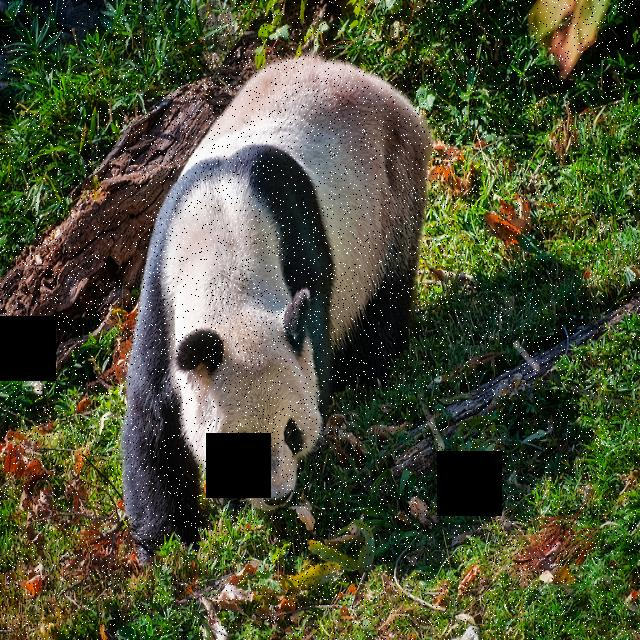Bear: (106, 40, 437, 523)
